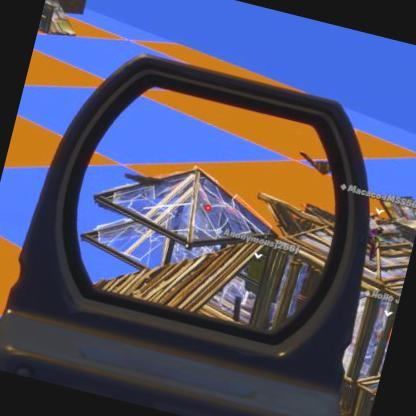person: (362, 223, 386, 260)
